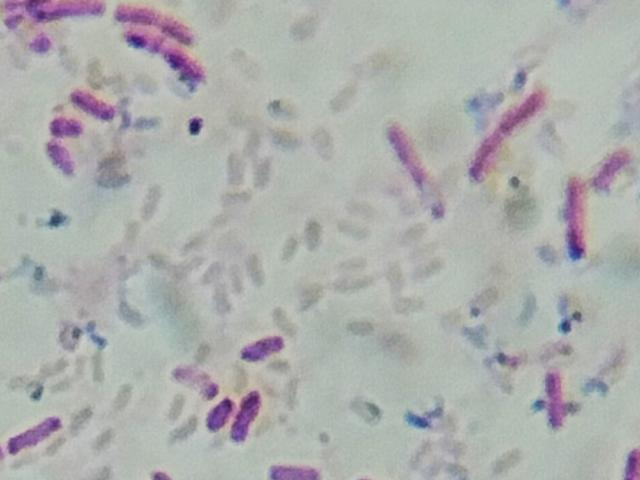E. coli: (462, 85, 543, 179), (378, 125, 441, 213), (133, 25, 218, 83), (111, 0, 199, 37), (551, 176, 588, 257), (19, 1, 108, 26), (593, 146, 632, 193), (12, 416, 57, 456), (541, 370, 569, 431), (233, 395, 264, 447), (241, 333, 287, 368), (263, 457, 328, 480), (73, 82, 111, 121), (619, 446, 640, 480), (211, 396, 233, 426), (46, 140, 68, 169), (49, 112, 74, 137)
